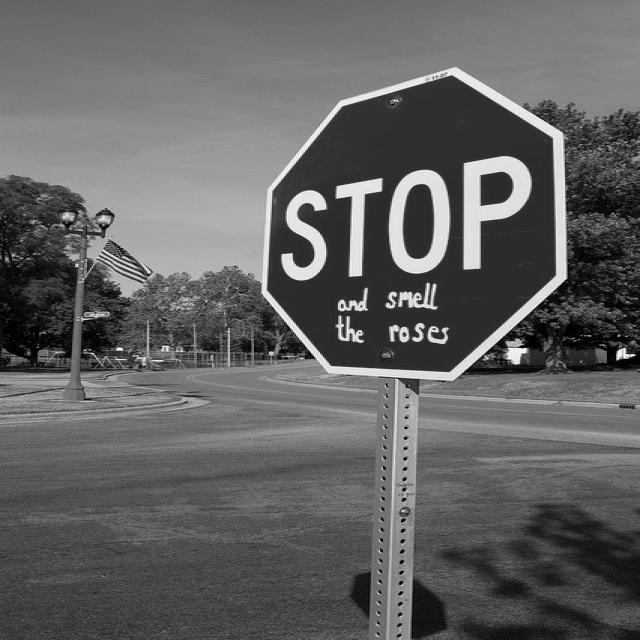car: (86, 355, 132, 366)
pole: (346, 376, 440, 639), (57, 232, 90, 399)
